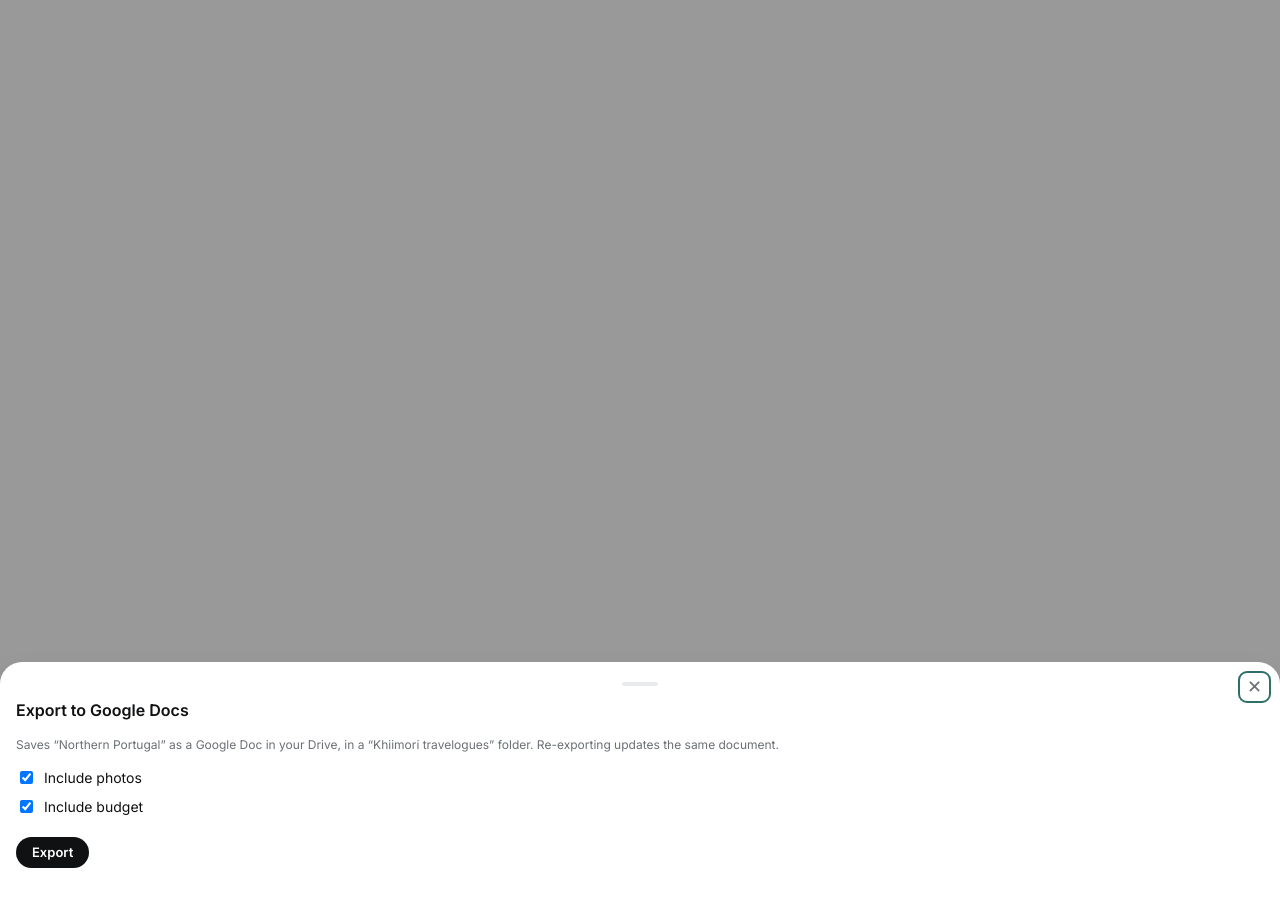
Test case: ExportDialog › shows an error with retry when the export fails
Click the button "Export".
click(53, 852)  # box [16, 837, 89, 868]
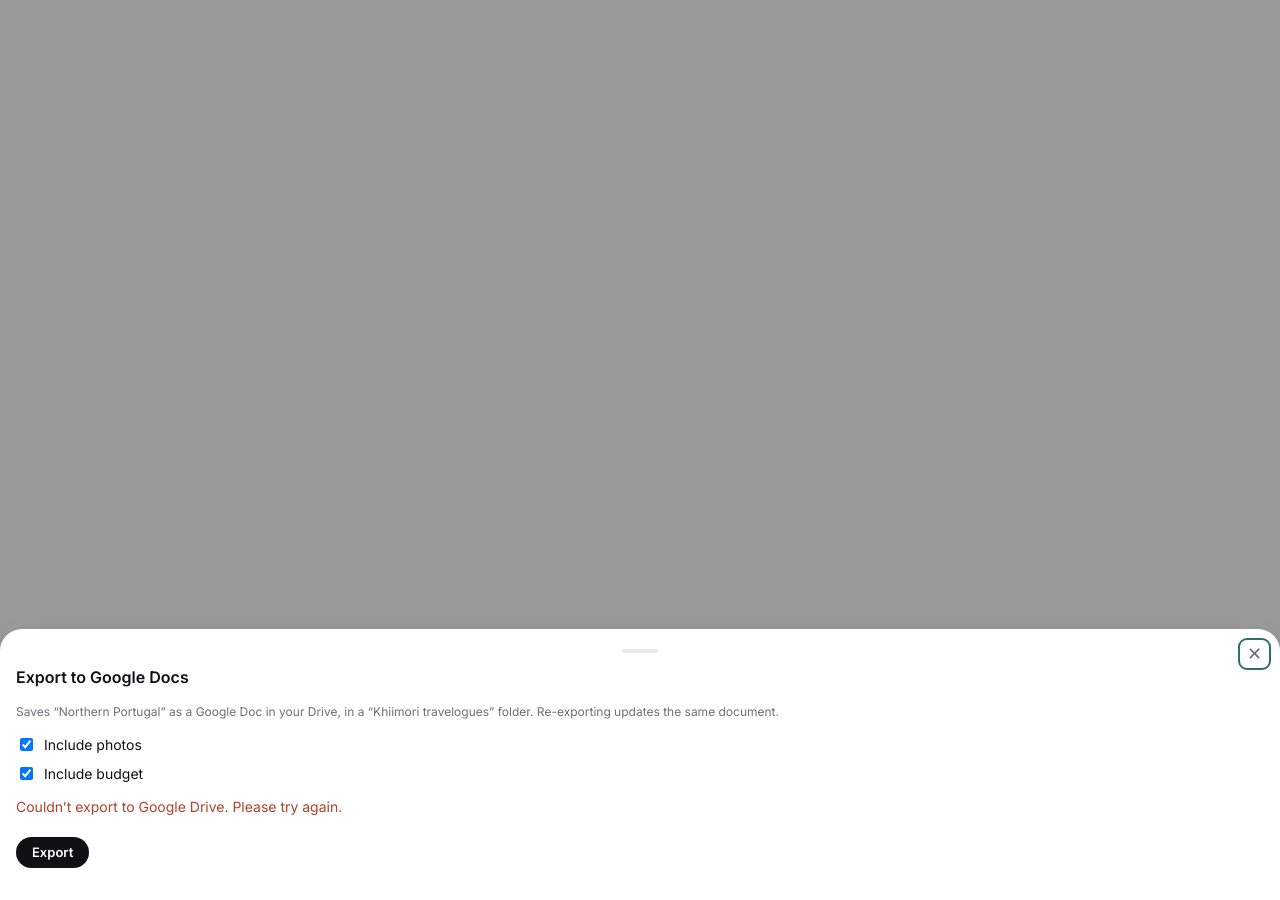
Expected: the text "Couldn’t export to Google Drive. Please try again." is shown, [16, 798, 342, 815]
